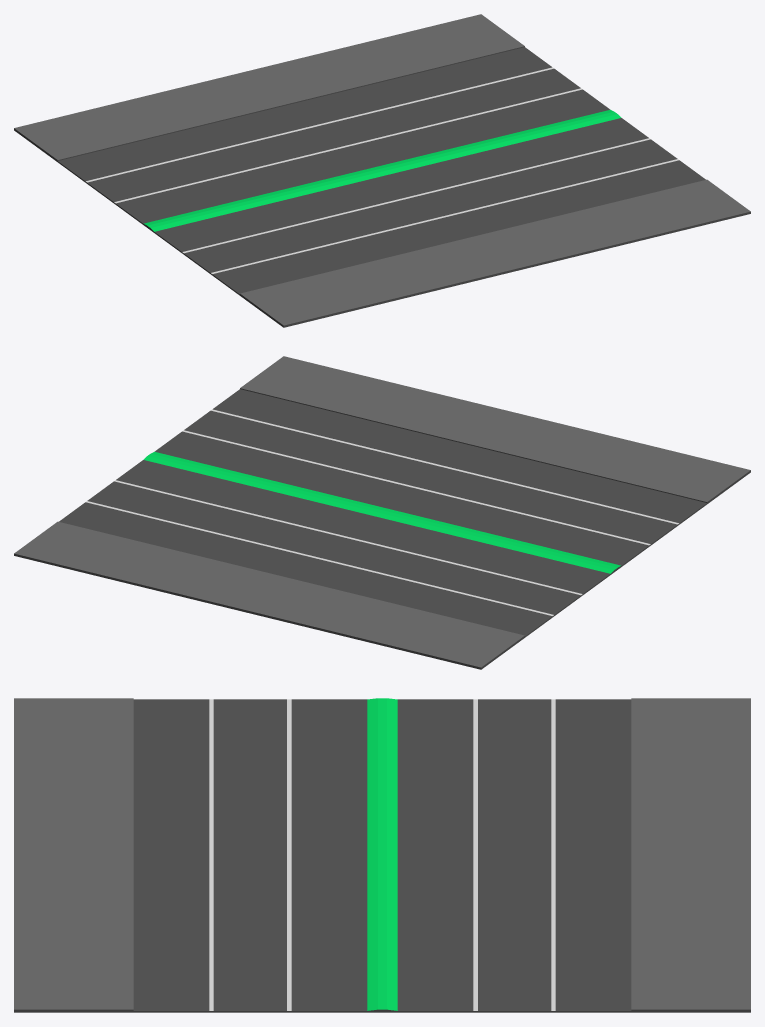
The model's file is roundabout.fbx.
The picture shows the model from 3 angles, top to bottom: view 1: azimuth 30°, elevation 25°; view 2: azimuth 150°, elevation 25°; view 3: azimuth 270°, elevation 25°; orthographic projection. The views are drawn at different scales.
Parts seen in each view (by area): view 1: Cube; view 2: Cube; view 3: Cube.
Boxes of the visible parts, left/top/right/bottom form: Cube: left=14, top=14, right=750, bottom=327; Cube: left=14, top=356, right=750, bottom=669; Cube: left=14, top=698, right=750, bottom=1012.
Size of the model in its own units: 4800 by 22.22 by 4800.
